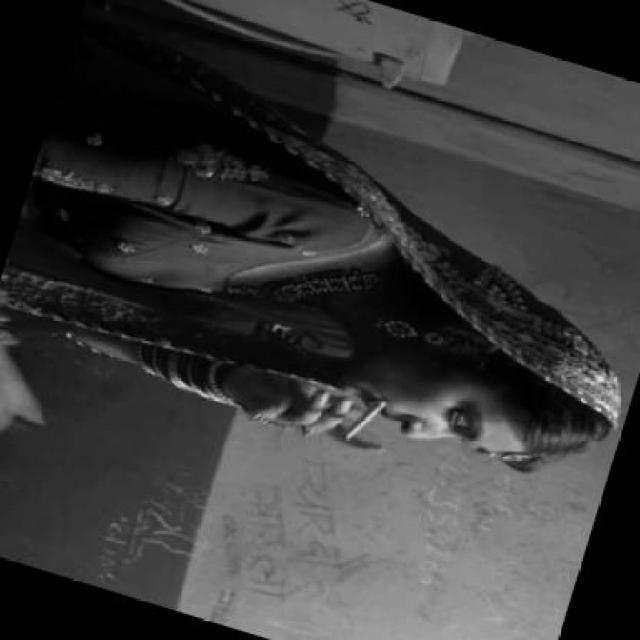smoke: (236, 372, 387, 448)
